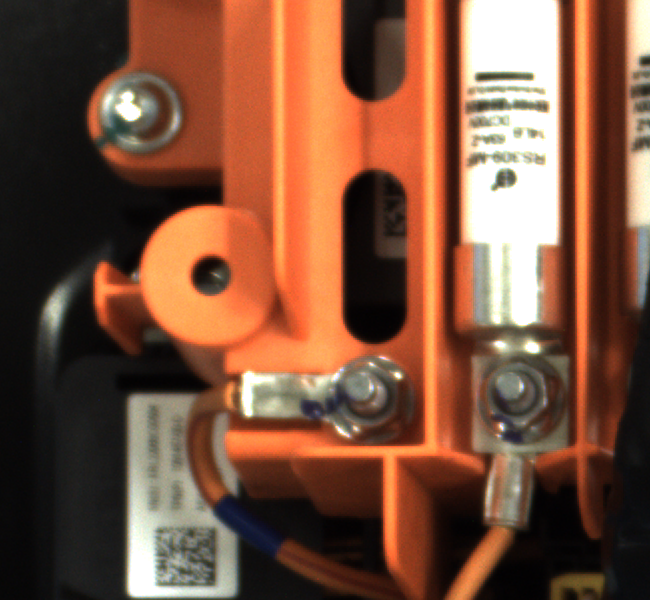screw_m: (84, 73, 211, 167)
screw_s: (472, 354, 564, 445), (324, 355, 424, 437)
